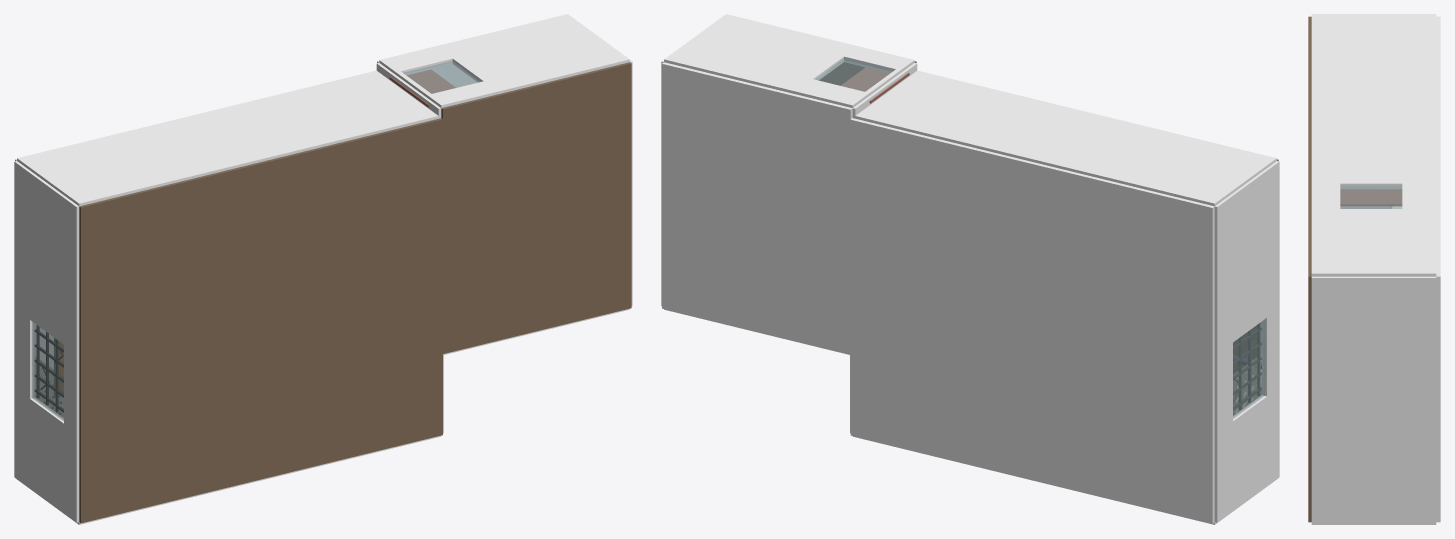
The model's file is fly-house.glb.
3 views of the same model, side by side, from view 1: azimuth 30°, elevation 25°; view 2: azimuth 150°, elevation 25°; view 3: azimuth 270°, elevation 25° (orthographic).
Visible parts, largest first — view 1: CEILING__main, CEILING__bed, WALL__main__north, WALL__main__west_b, WALL__bed__north_b, WALL__main__west_a, window-glass, WALL__main__west_sill, bedroom-window, WALL__main__west_head, WALL__bed__north_sill, WALL__bed__north_head (+1 smaller); view 2: FLOOR__main, FLOOR__bed, WALL__main__north, WALL__main__west_b, WALL__bed__north_b, WALL__main__west_a, window-glass, WALL__main__west_sill, bedroom-window, WALL__main__west_head, WALL__bed__north_sill, WALL__bed__north_head (+1 smaller); view 3: WALL__bed__east, WALL__main__north, WALL__bed__north_b, FLOOR__bed, bedroom-window, CEILING__bed, WALL__bed__north_sill, FLOOR__main, WALL__bed__north_head, WALL__bed__north_a, CEILING__main, bed-curtain-3 (+3 smaller).
Boxes of the visible parts, x1,y1,x2,y2 form: CEILING__main: [79, 118, 442, 523]; CEILING__bed: [441, 62, 631, 353]; WALL__main__north: [17, 70, 441, 206]; WALL__main__west_b: [14, 161, 79, 353]; WALL__bed__north_b: [436, 14, 629, 94]; WALL__main__west_a: [14, 387, 79, 522]; window-glass: [32, 322, 63, 420]; WALL__main__west_sill: [14, 308, 35, 398]; bedroom-window: [403, 61, 480, 93]; WALL__main__west_head: [64, 345, 79, 432]; WALL__bed__north_sill: [384, 46, 452, 75]; WALL__bed__north_head: [432, 81, 497, 106]; FLOOR__main: [850, 118, 1214, 523]; FLOOR__bed: [662, 62, 852, 354]; WALL__main__north: [854, 70, 1276, 206]; WALL__main__west_b: [1214, 161, 1279, 353]; WALL__bed__north_b: [664, 14, 857, 94]; WALL__main__west_a: [1214, 387, 1279, 522]; window-glass: [1233, 319, 1264, 418]; WALL__main__west_sill: [1214, 343, 1232, 432]; bedroom-window: [816, 59, 893, 91]; WALL__main__west_head: [1262, 308, 1279, 396]; WALL__bed__north_sill: [796, 79, 864, 106]; WALL__bed__north_head: [844, 46, 909, 72]; WALL__bed__east: [1311, 276, 1436, 523]; WALL__main__north: [1311, 14, 1436, 181]; WALL__bed__north_b: [1311, 209, 1436, 276]; FLOOR__bed: [1436, 184, 1440, 522]; bedroom-window: [1340, 185, 1402, 208]; CEILING__bed: [1308, 184, 1311, 522]; WALL__bed__north_sill: [1402, 183, 1436, 208]; FLOOR__main: [1436, 16, 1440, 184]; WALL__bed__north_head: [1311, 183, 1340, 208]; WALL__bed__north_a: [1311, 181, 1436, 189]; CEILING__main: [1308, 16, 1311, 184]; bed-curtain-3: [1340, 199, 1402, 206].
Bounding box in the file's own units: 14.74 × 8.39 × 3.03.
